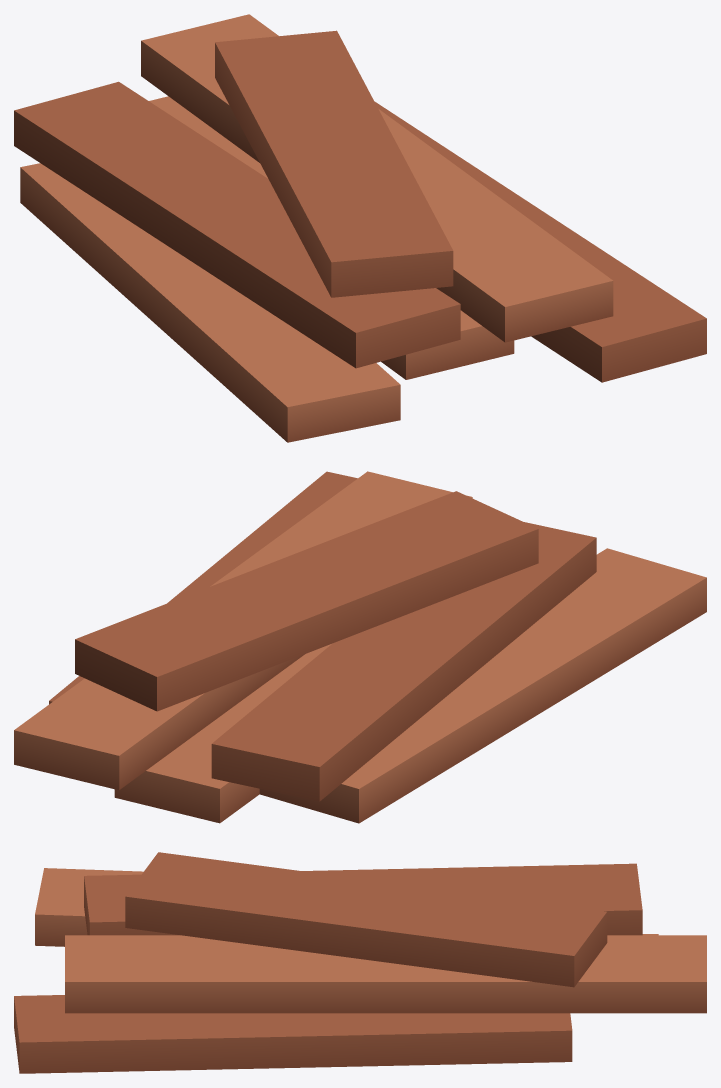
The model's file is survival-resource-planks.glb.
3 views of the same model, one above another, from view 1: azimuth 30°, elevation 25°; view 2: azimuth 150°, elevation 25°; view 3: azimuth 270°, elevation 25° (orthographic). The views are drawn at different scales.
Visible parts, largest first — view 1: survival-resource-planks; view 2: survival-resource-planks; view 3: survival-resource-planks.
Boxes of the visible parts, x1=… form: survival-resource-planks: x1=14, y1=14, x2=706, y2=442; survival-resource-planks: x1=14, y1=471, x2=706, y2=823; survival-resource-planks: x1=14, y1=852, x2=706, y2=1073.
Bounding box in the file's own units: 0.3729 × 0.0936 × 0.626.
